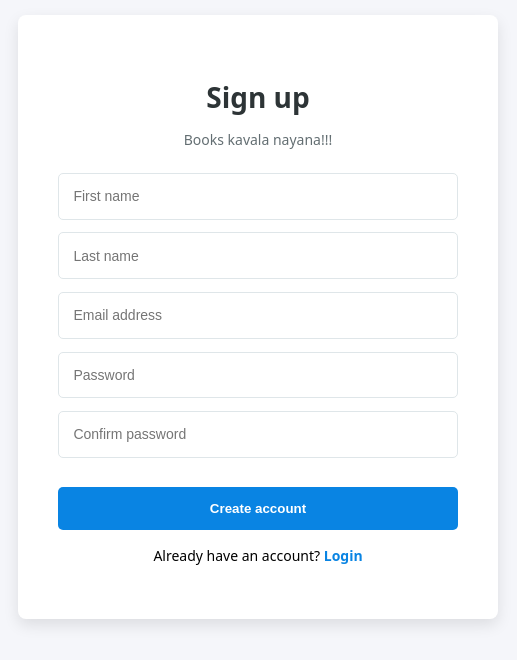
Scenario: Register Component › shows error when user already exists
Step 1. Type "mahi" into the field with placeholder "First name" → (258, 196), box [58,173,458,220]
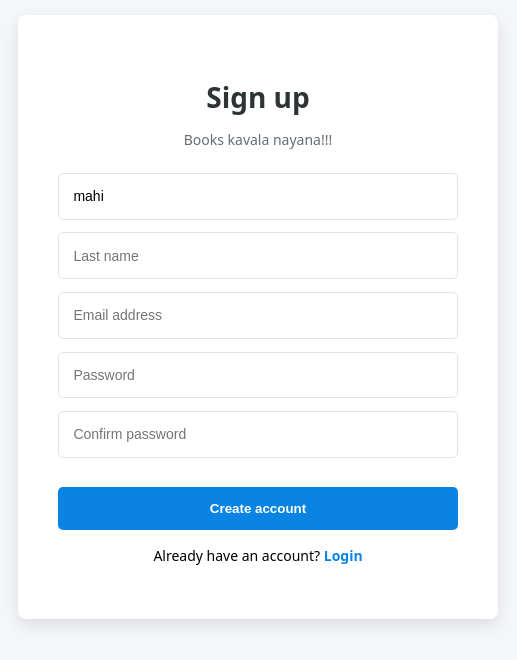
Step 2. Type "gude" into the field with placeholder "Last name" → (258, 256), box [58,232,458,279]
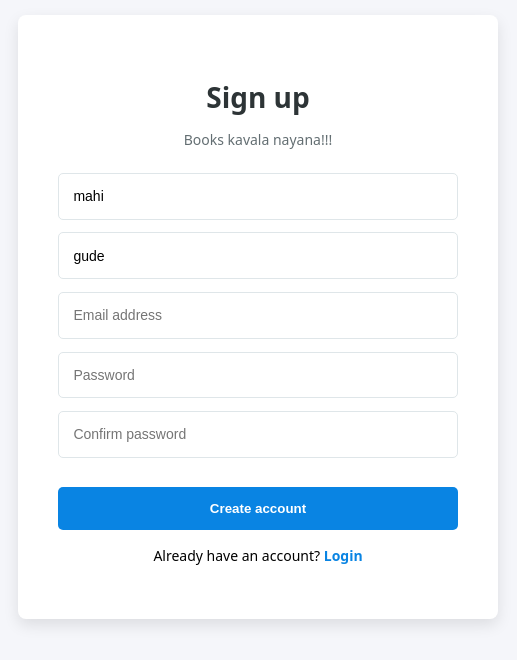
Step 3. Type "mahi@gmail.com" into the field with placeholder "Email address" → (258, 315), box [58,292,458,339]
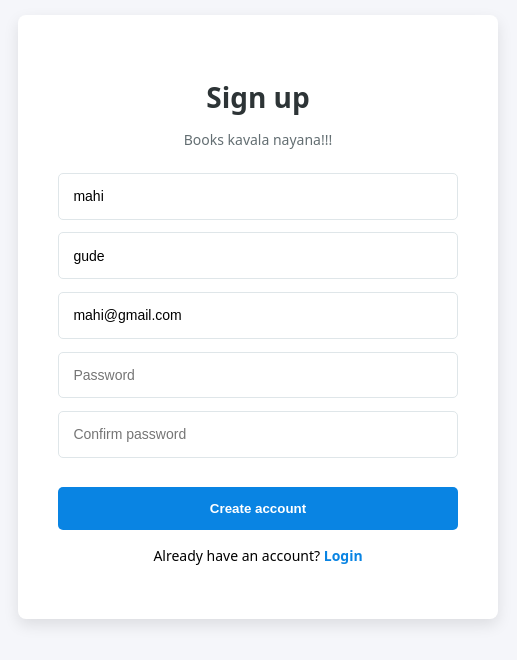
Step 4. Type "1234" into the password field with placeholder "Password" → (258, 375), box [58,352,458,398]
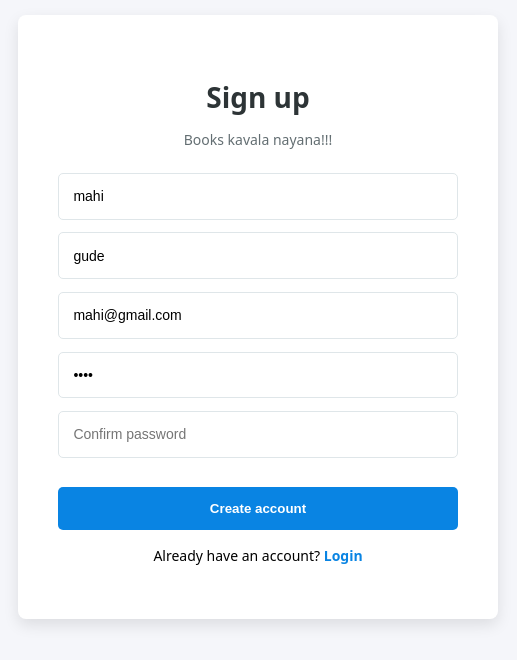
Step 5. Type "1234" into the password field with placeholder "Confirm password" → (258, 434), box [58,411,458,458]
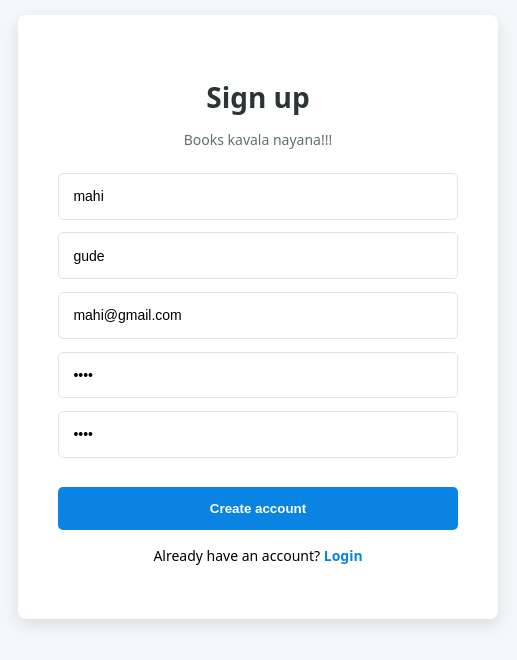
Step 6. Click the button "Create account" → (258, 509), box [58,487,458,530]
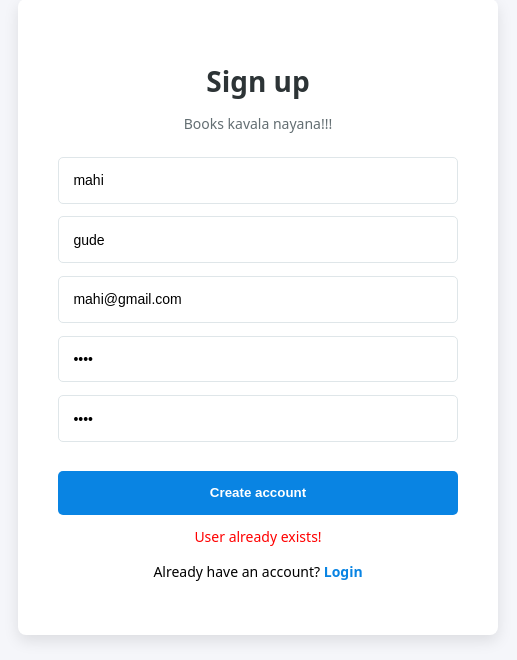
Result: the text "User already exists!" is shown at [194,527,322,546]
